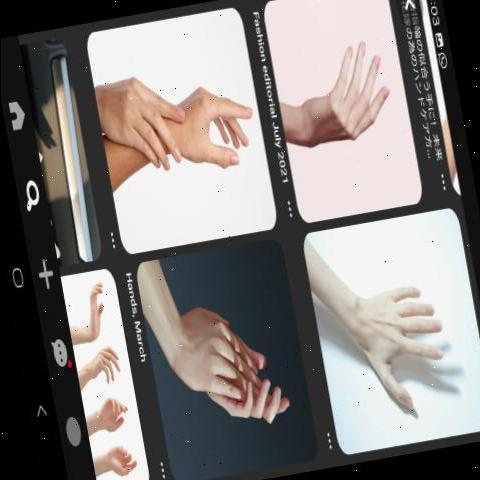Hands: (342, 243, 462, 430), (154, 298, 292, 443), (282, 23, 392, 193), (102, 58, 190, 186), (174, 82, 252, 194), (76, 280, 114, 346), (86, 346, 126, 396), (91, 394, 132, 440), (103, 441, 142, 480)
